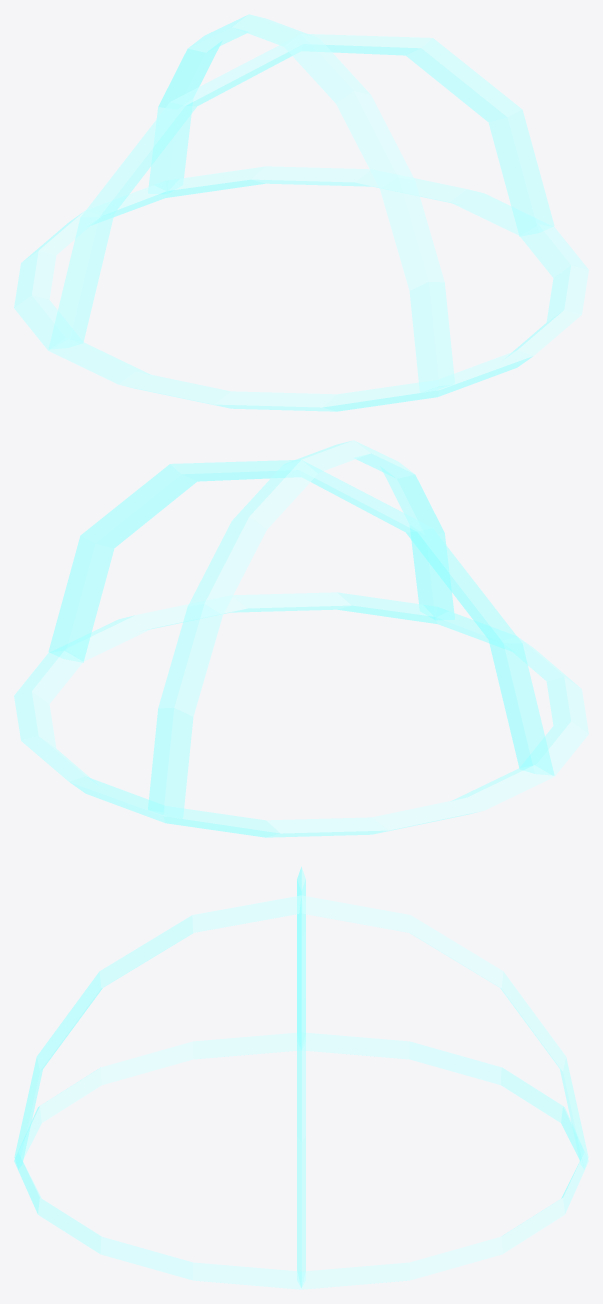
Rendered from shield-far.glb.
3 views of the same model, one above another, from view 1: azimuth 30°, elevation 25°; view 2: azimuth 150°, elevation 25°; view 3: azimuth 270°, elevation 25° (orthographic). The views are drawn at different scales.
Visible parts, largest first — view 1: Continuous solid frames.002; view 2: Continuous solid frames.002; view 3: Continuous solid frames.002.
Part boxes in pixels (x1,y1,x2,y2): Continuous solid frames.002: [14, 14, 588, 411]; Continuous solid frames.002: [14, 440, 588, 837]; Continuous solid frames.002: [14, 866, 588, 1289].
Bounding box in the file's own units: 2.15 × 1.07 × 2.03.
